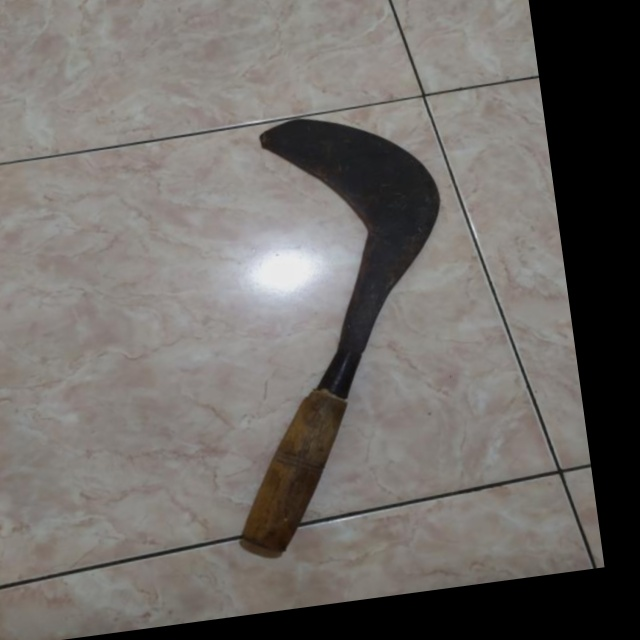Sharp-Object: (163, 72, 494, 567)
